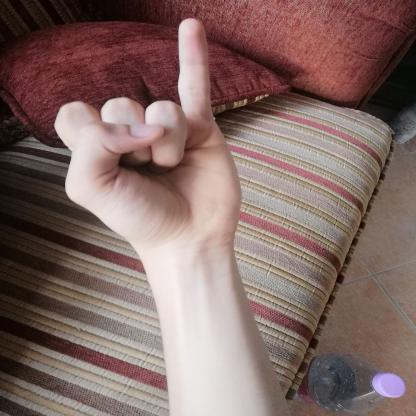MEEM: (34, 8, 254, 259)
